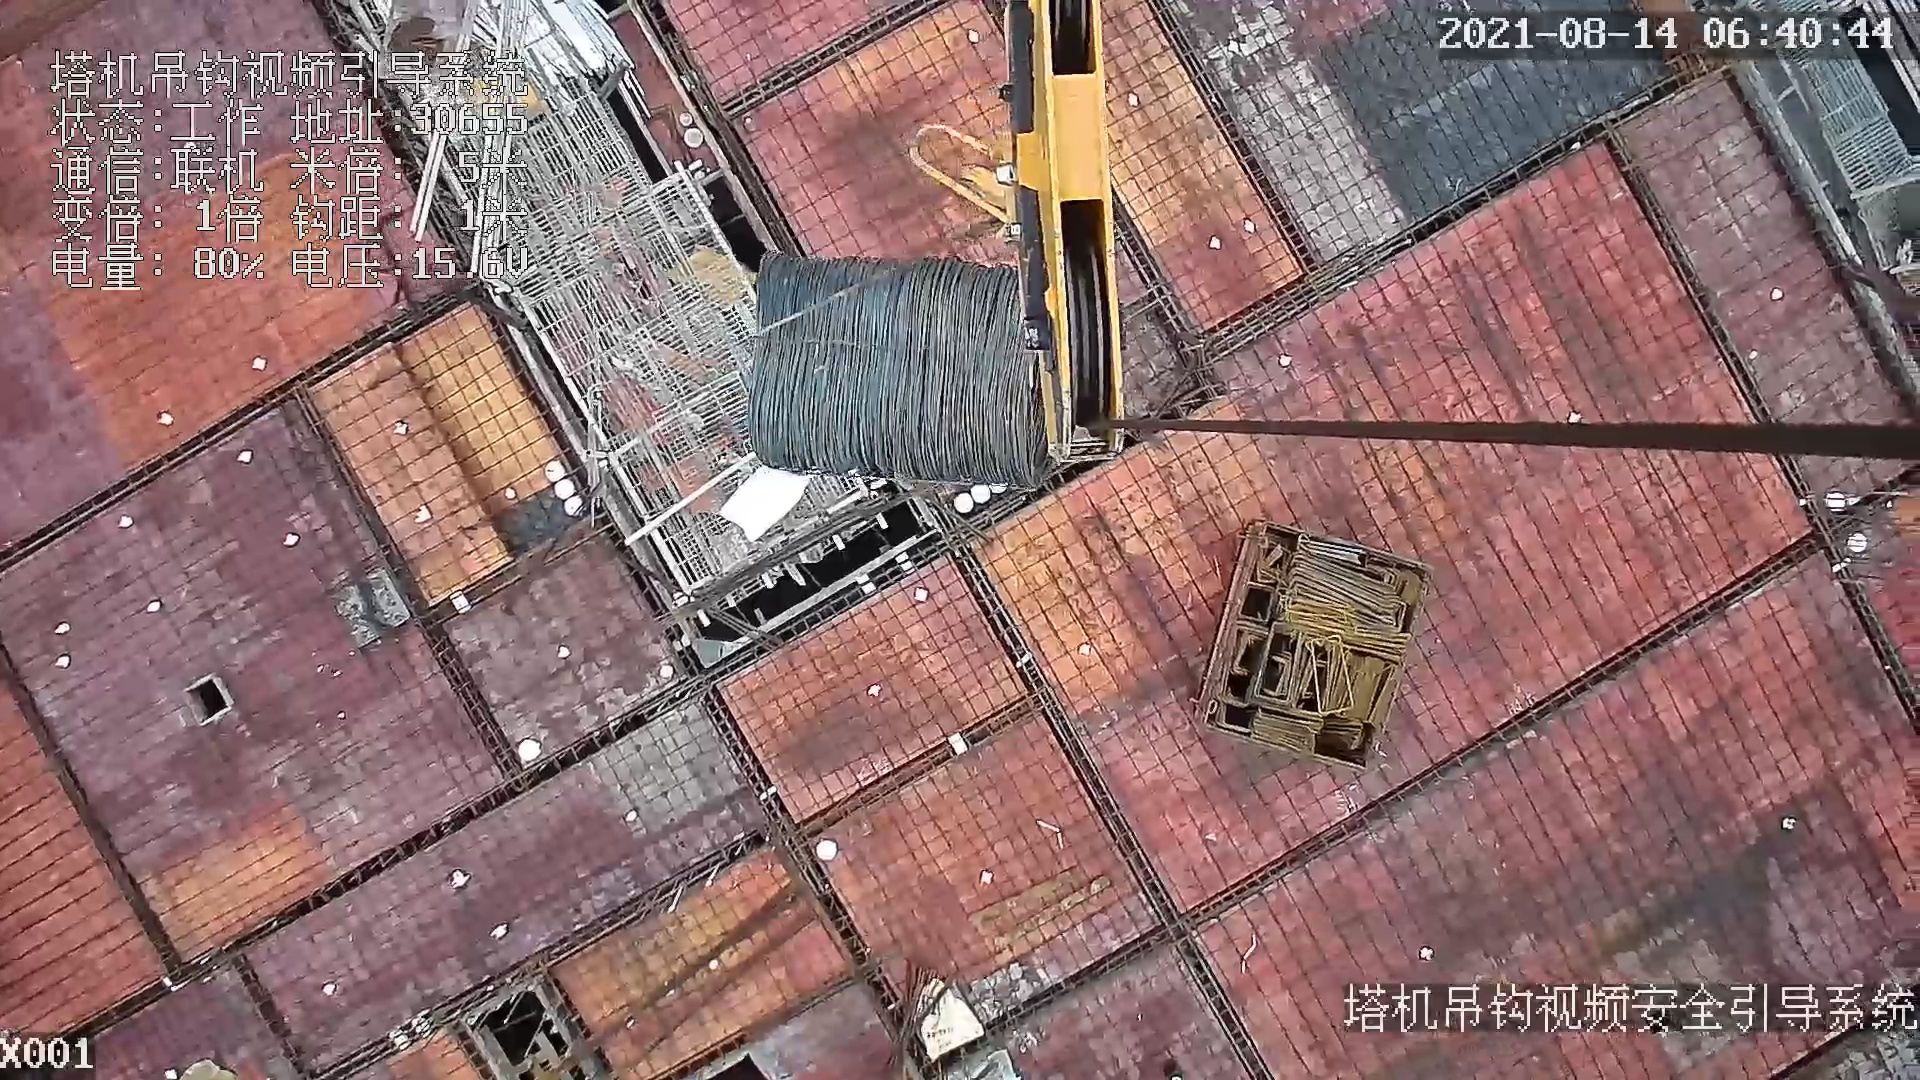hook: (905, 1, 1133, 469)
